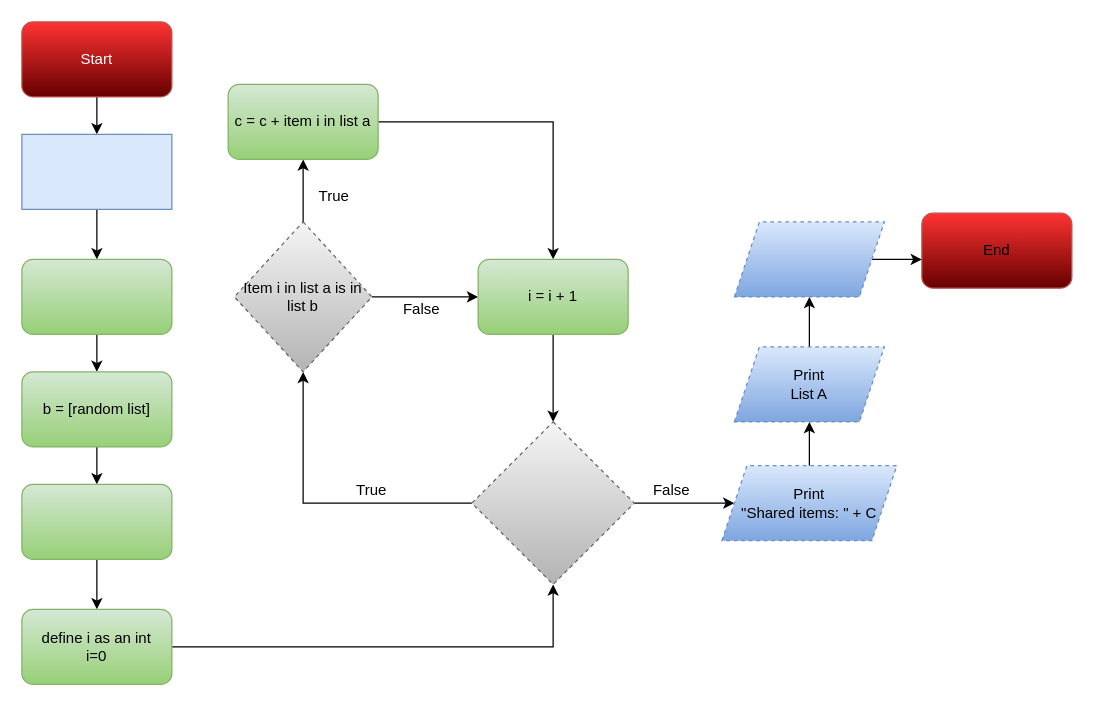
Some shapes in this 1094 by 706 pixel diagram are drawn without their labels. Here are the shapes that lost their labels. From the top down, the centre of each, then its label:
pixel 96 171: List overlap test
pixel 808 259: Print List B
pixel 96 296: a = [random list]
pixel 96 521: define c as string c = ""
pixel 552 502: While i< length of list a
